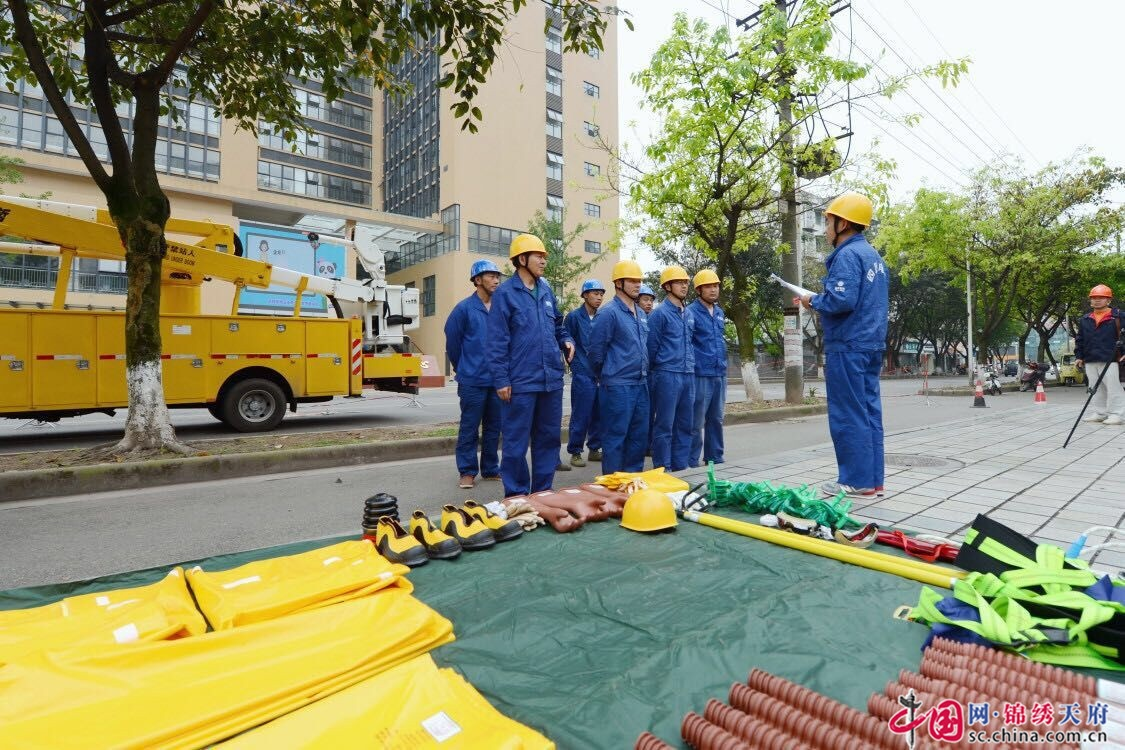blue: (470, 259, 501, 295), (580, 277, 605, 309), (633, 284, 655, 314)
red: (1087, 283, 1114, 310)
yellow: (820, 190, 874, 245), (507, 233, 548, 278), (610, 258, 642, 300), (658, 265, 690, 299), (691, 268, 720, 304)
